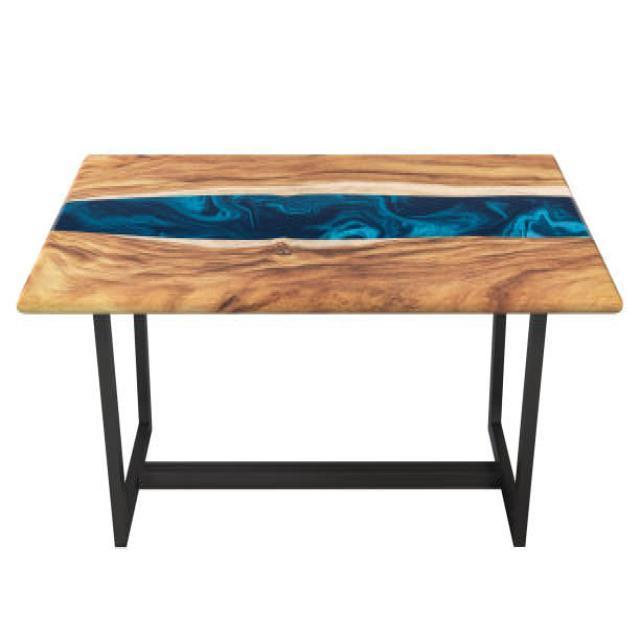table: (16, 151, 624, 549)
